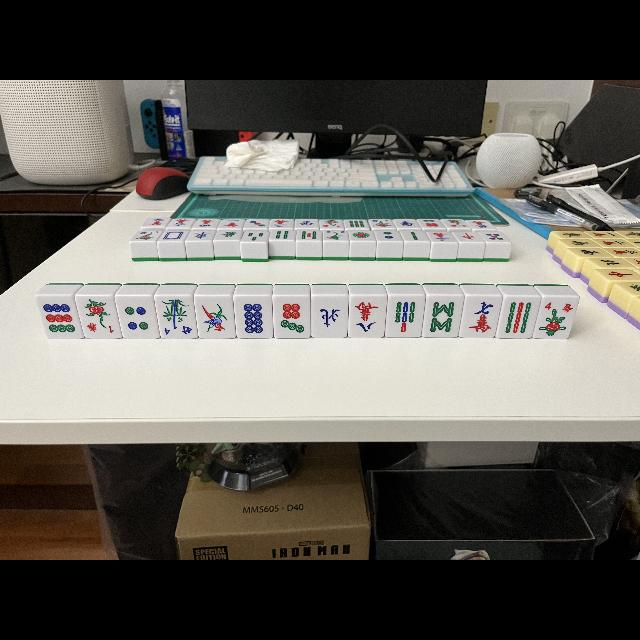b1: (194, 296, 236, 338)
b7: (388, 295, 422, 337)
b8: (423, 296, 459, 338)
b9: (497, 296, 538, 338)
c7: (462, 296, 501, 338)
c8: (348, 294, 386, 338)
d4: (115, 296, 159, 338)
d7: (273, 296, 311, 338)
d8: (234, 296, 272, 338)
d9: (36, 296, 82, 338)
f4: (160, 324, 197, 338)
s1: (80, 318, 121, 338)
s4: (535, 296, 577, 316)
wn: (312, 295, 348, 337)
